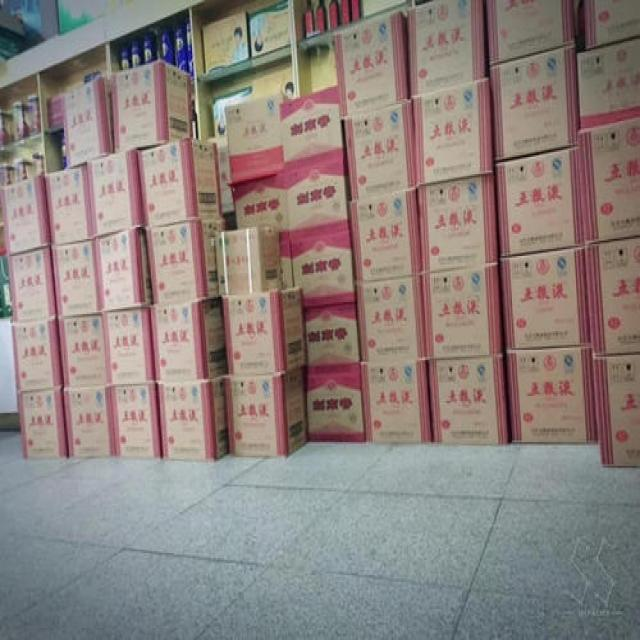box: (490, 43, 580, 162), (495, 147, 585, 256), (499, 246, 590, 350), (506, 346, 598, 444), (412, 77, 493, 186), (576, 116, 640, 246), (334, 12, 410, 118), (417, 174, 498, 273), (422, 261, 503, 358), (137, 138, 223, 227), (429, 350, 509, 445), (111, 60, 193, 152), (343, 97, 416, 200), (407, 0, 485, 96), (225, 369, 308, 459), (223, 287, 307, 375), (349, 188, 421, 282), (585, 237, 640, 357), (146, 220, 224, 304), (151, 299, 228, 382), (155, 374, 228, 461), (355, 273, 426, 362), (225, 94, 292, 186), (361, 357, 433, 442), (485, 0, 575, 65), (577, 38, 640, 130), (280, 85, 347, 171), (284, 157, 351, 241), (86, 150, 146, 239), (594, 353, 640, 468), (291, 230, 357, 309), (95, 227, 154, 312), (215, 225, 283, 295), (63, 77, 114, 167), (12, 312, 63, 394), (307, 370, 365, 442), (101, 307, 155, 384), (45, 164, 95, 247), (302, 304, 361, 374), (111, 382, 163, 459), (1, 176, 51, 256), (51, 239, 101, 317), (233, 171, 289, 239), (6, 247, 56, 323), (63, 386, 115, 457), (58, 316, 108, 387), (17, 389, 69, 457), (577, 0, 640, 49), (204, 12, 251, 73), (251, 0, 289, 58), (207, 135, 234, 215), (212, 85, 253, 135), (253, 68, 293, 101), (280, 239, 294, 287), (47, 94, 64, 130)
